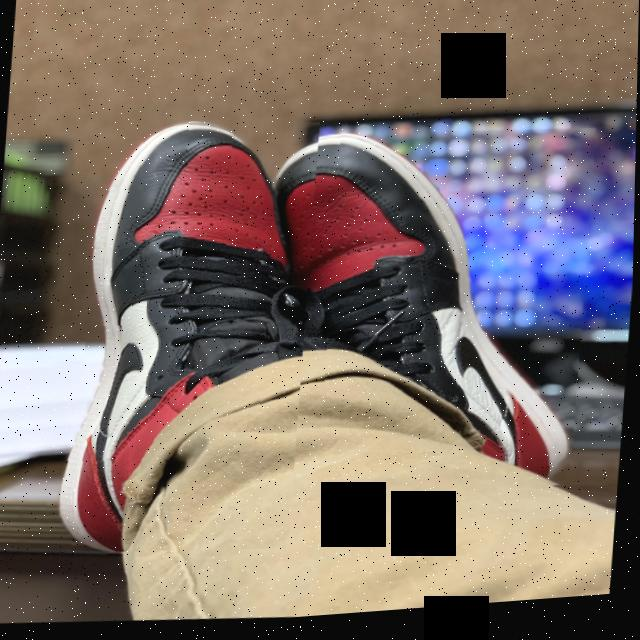shoe: (249, 121, 597, 514), (48, 110, 322, 567)
